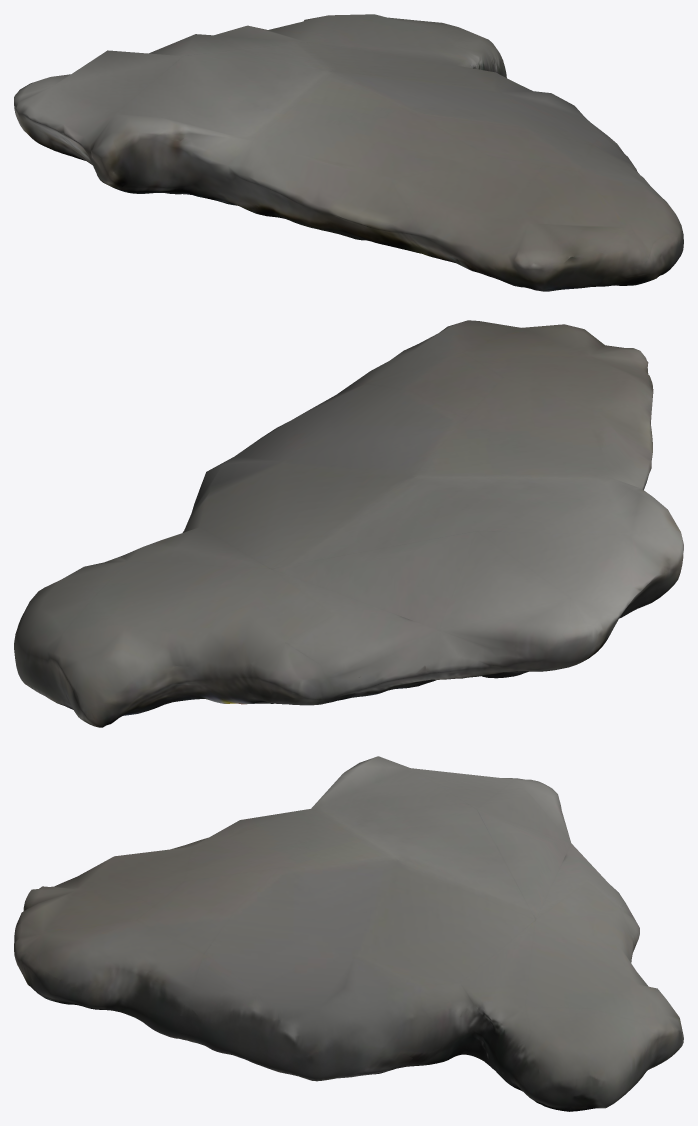
3 views of the same model, one above another, from view 1: azimuth 30°, elevation 25°; view 2: azimuth 150°, elevation 25°; view 3: azimuth 270°, elevation 25° (orthographic). The views are drawn at different scales.
Size of the model in its own units: 0.4089 by 0.1413 by 0.5283.
1 material, 1 textured.
